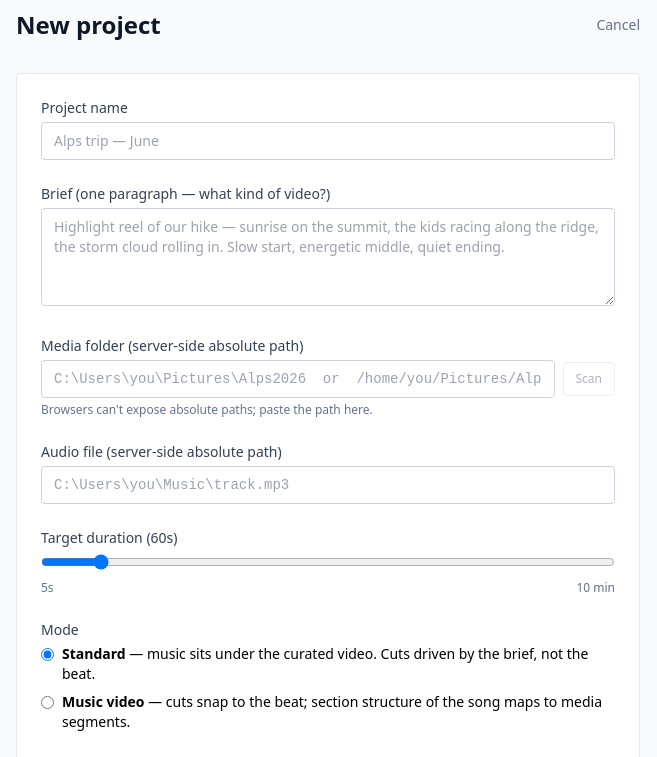
Scenario: NewProject › shows the scan error when the folder request fails
Type "/nope" into the field with placeholder "Pictures.Alps2026".
click(298, 379); type("/nope")  # box [41, 360, 554, 398]
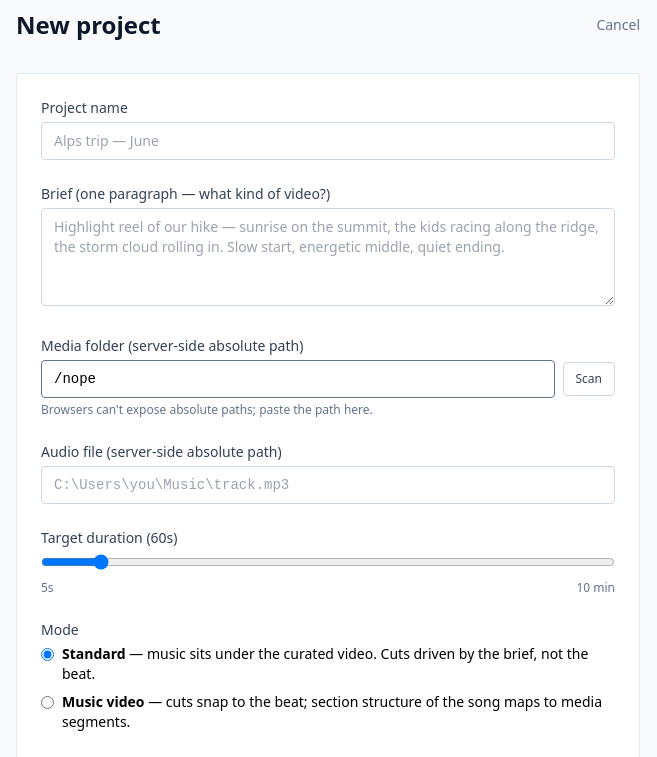
Click the button "Scan".
click(589, 379)  # box [562, 362, 615, 396]
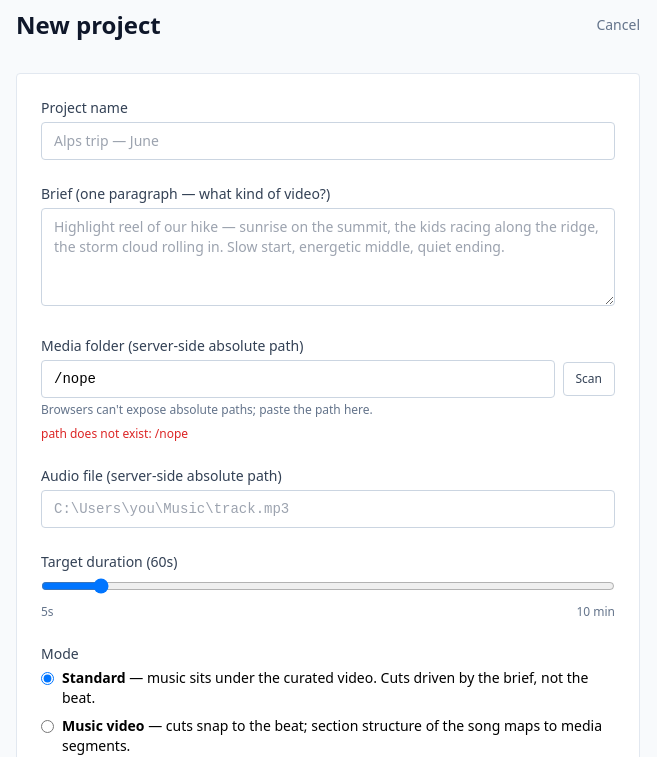
Expected: the message shows "path does not exist", [41, 425, 188, 442]
